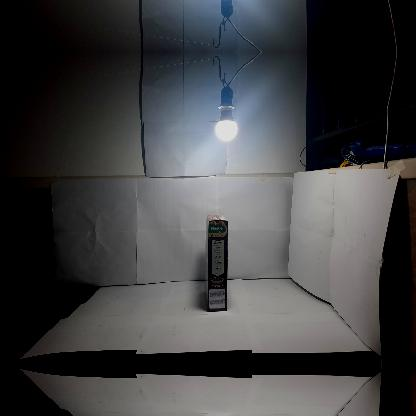Koko-Krunch: (204, 214, 228, 312)
